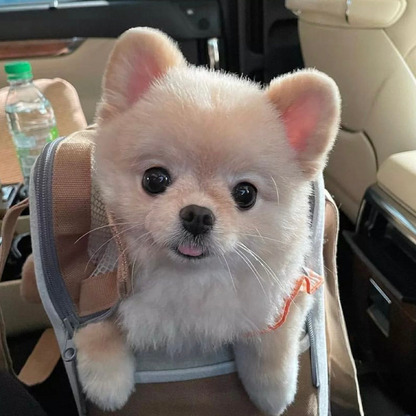Pomeranian: (79, 22, 343, 387)
